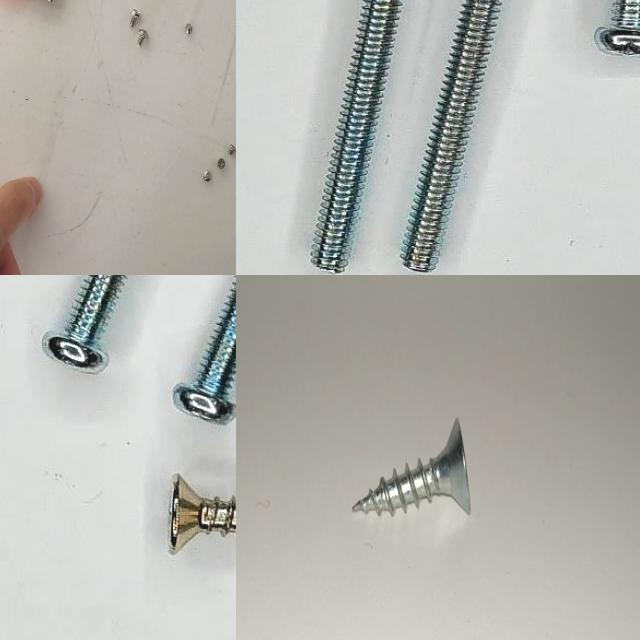Screw: (402, 0, 501, 273), (311, 0, 401, 274), (352, 417, 471, 515), (174, 283, 236, 424), (43, 275, 125, 372), (169, 475, 236, 555), (129, 8, 142, 30), (137, 28, 150, 48), (202, 169, 214, 182), (184, 22, 194, 36), (217, 156, 227, 170), (228, 142, 236, 157)
